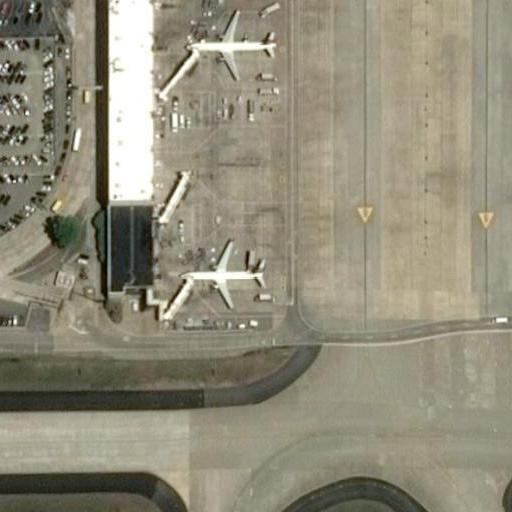Aircraft: (185, 0, 275, 81), (176, 235, 264, 307)
